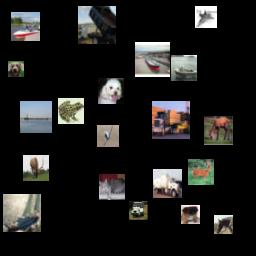airplane: (97, 125, 119, 147), (195, 6, 217, 28)
cat: (99, 174, 125, 200)
deer: (204, 116, 233, 145), (23, 155, 49, 181), (188, 159, 214, 185)
dog: (98, 78, 124, 104), (181, 205, 200, 224), (8, 61, 24, 77)
frog: (58, 98, 84, 124)
ship: (3, 194, 41, 232), (135, 42, 170, 77), (20, 101, 52, 133), (11, 12, 40, 41), (171, 55, 197, 81)
truck: (78, 6, 116, 44), (152, 101, 190, 139), (153, 169, 182, 198), (129, 201, 148, 220)
